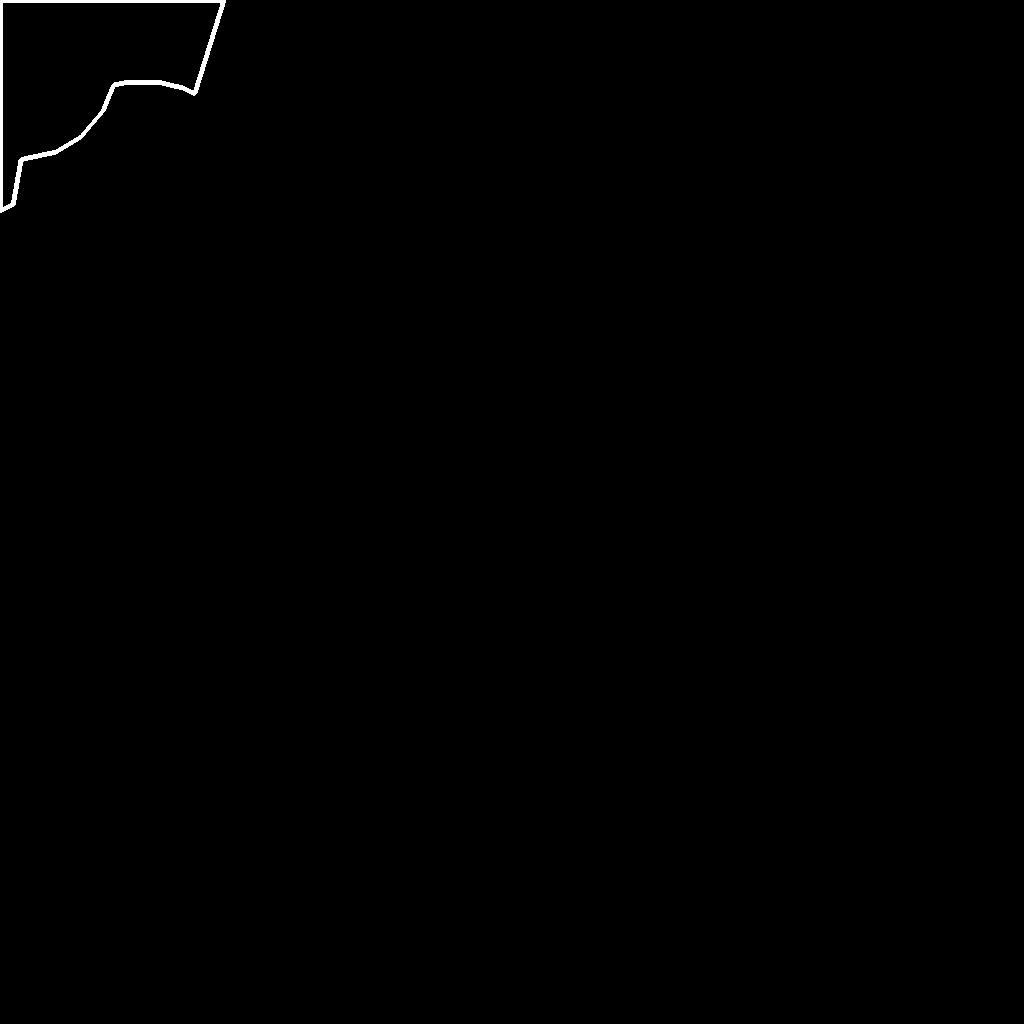building: (0, 0, 225, 212)
